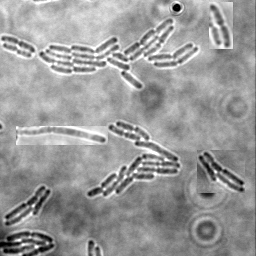Dividing: (16, 126, 108, 145), (209, 2, 233, 49), (1, 34, 37, 52), (3, 41, 33, 57)
Microcolony: (40, 18, 199, 89), (87, 120, 181, 197), (197, 150, 245, 193), (5, 184, 52, 226), (1, 230, 56, 255)
